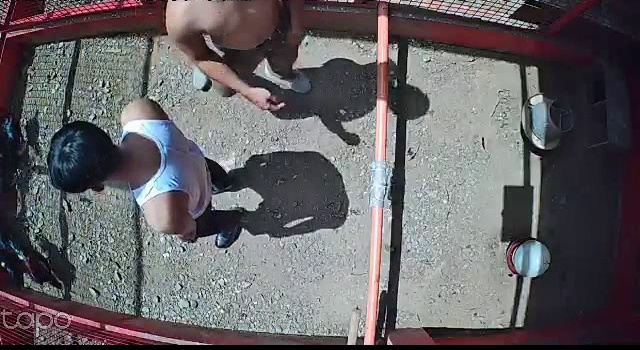Drinker: (505, 236, 553, 278)
Feeder: (521, 92, 577, 151)
Rooster: (8, 240, 70, 296)
